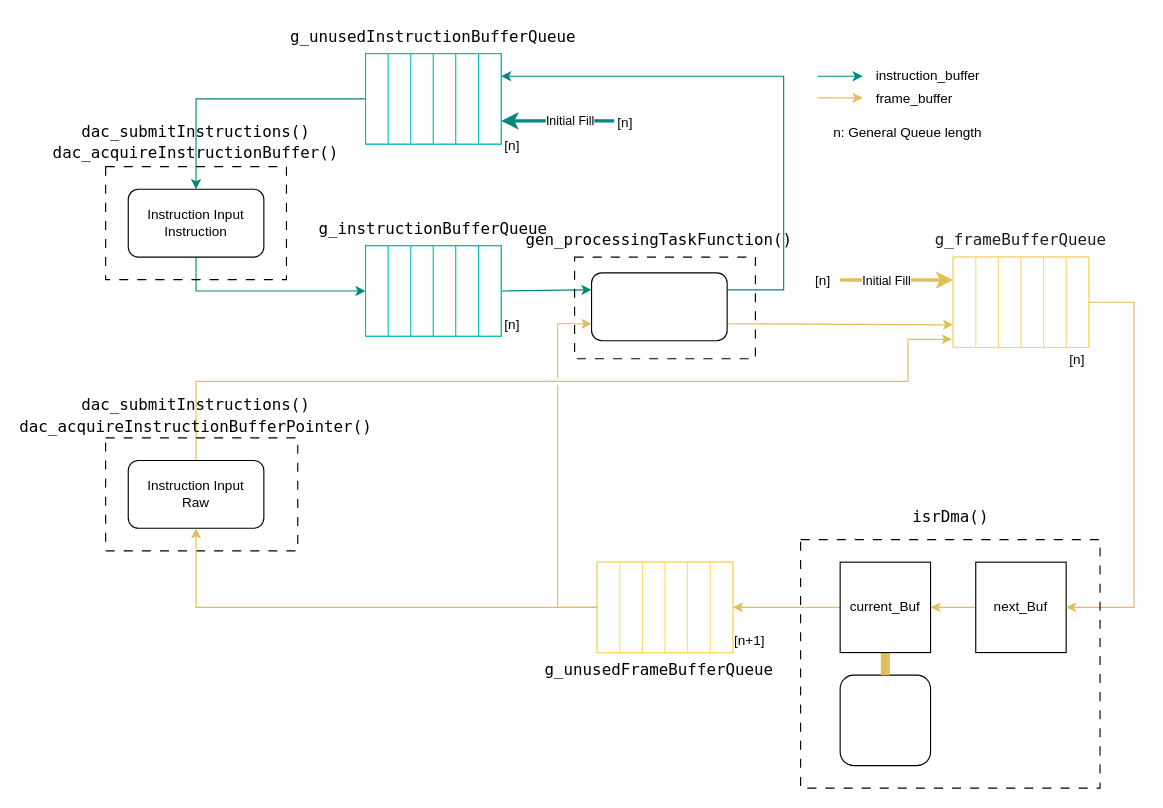
Image size: 1163x808. Some labels were removed from this diagram. Each missing label, with the centre of its shape:
"PIO" goes at (885,720).
"Signal Generator" goes at (658,306).
